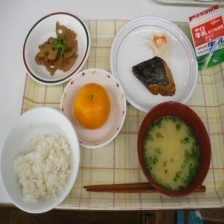rice: (8, 129, 75, 206)
